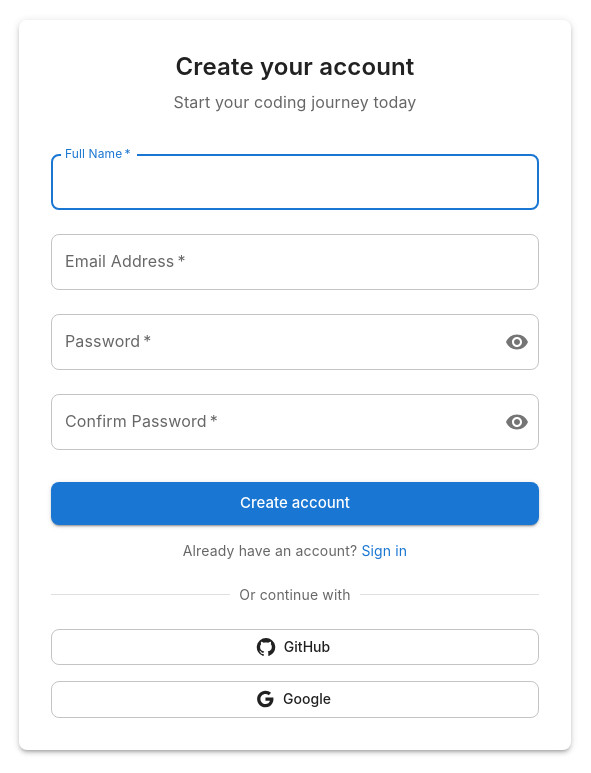
Test: RegisterPage › should show validation error for short password
Type "short" into the password field labelled "Password *". click: (270,342)
box: [51, 314, 489, 370]
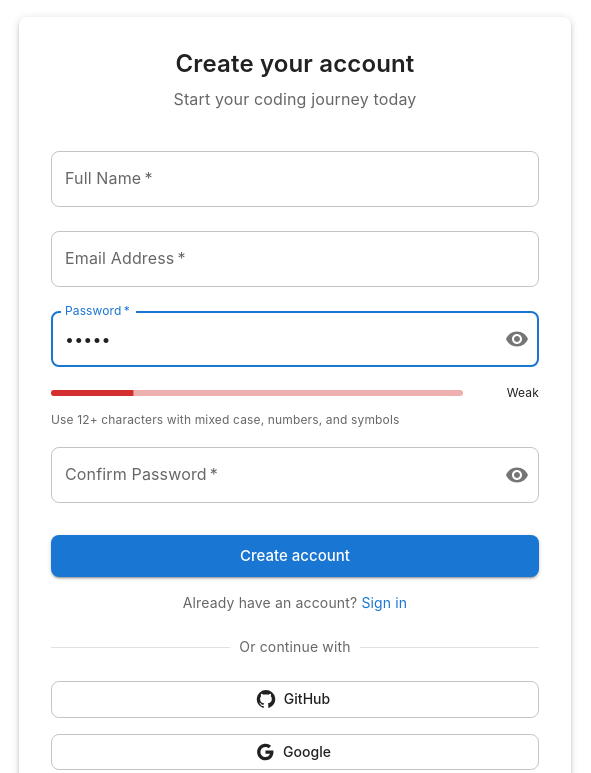
Click the button "Create account". click: (295,556)
box: [51, 535, 539, 577]
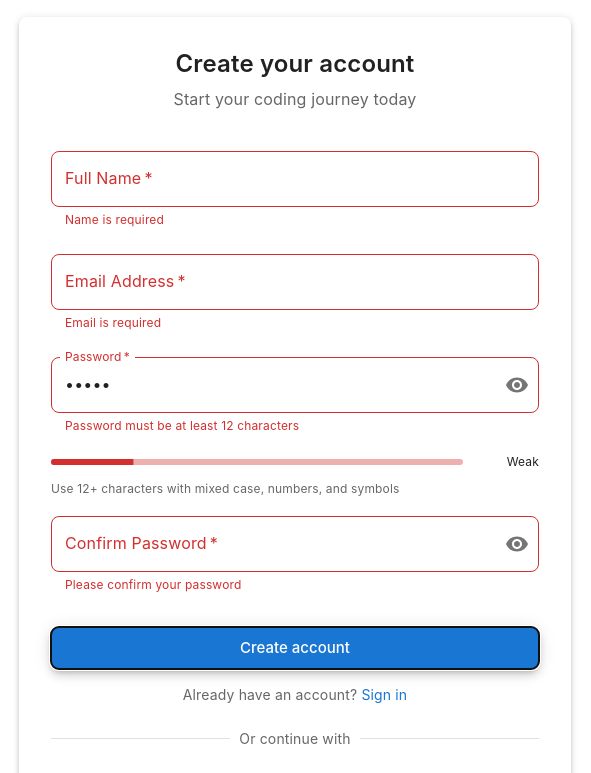
Result: the text "Password must be at least 12 characters" is shown at [65, 418, 299, 433]
